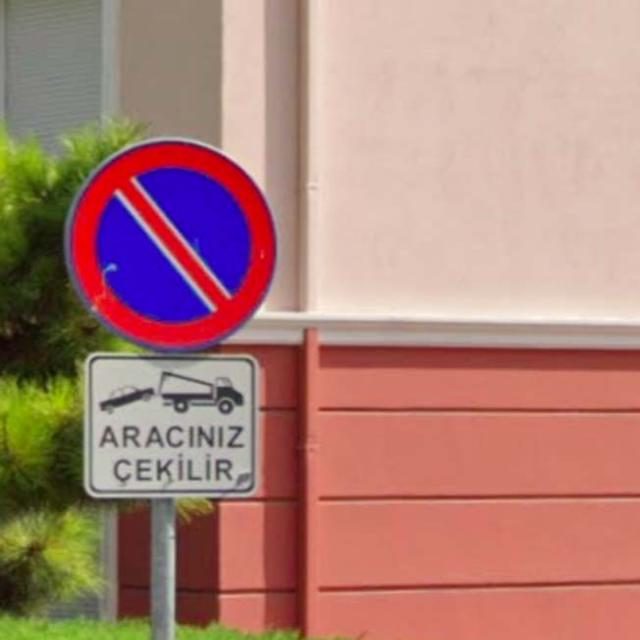parkyasak: (65, 137, 278, 352)
